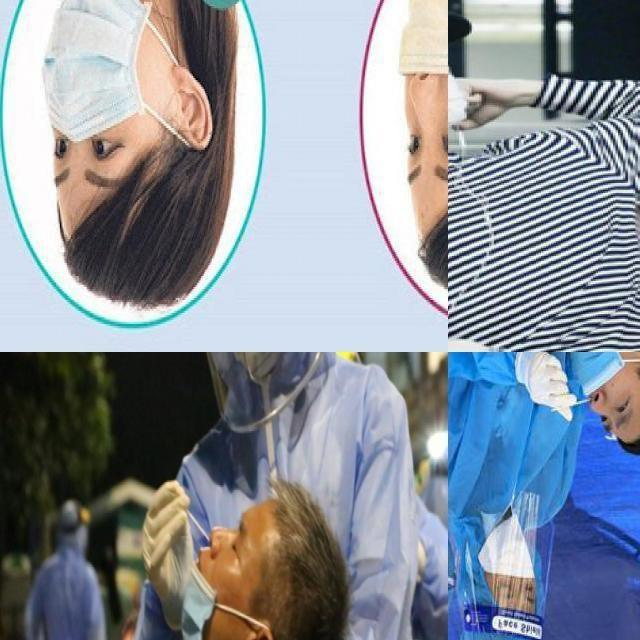hairnet: (396, 0, 447, 192), (181, 522, 236, 639), (569, 352, 626, 413)
